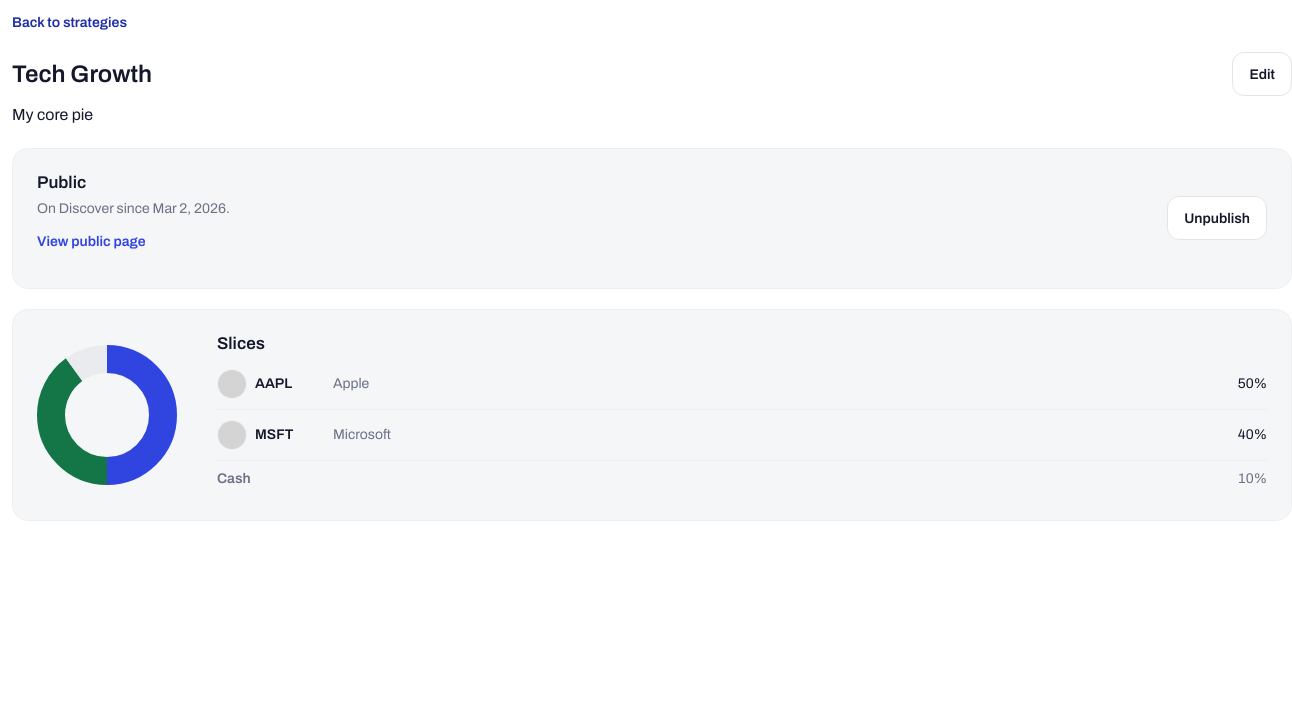
Test case: PieDetailComponent › unpublishes a public pie
Expected: the link "View public page" is shown, [37,234,146,250]
Click the button "Unpublish".
click(1217, 218)  # box [1167,196,1267,240]
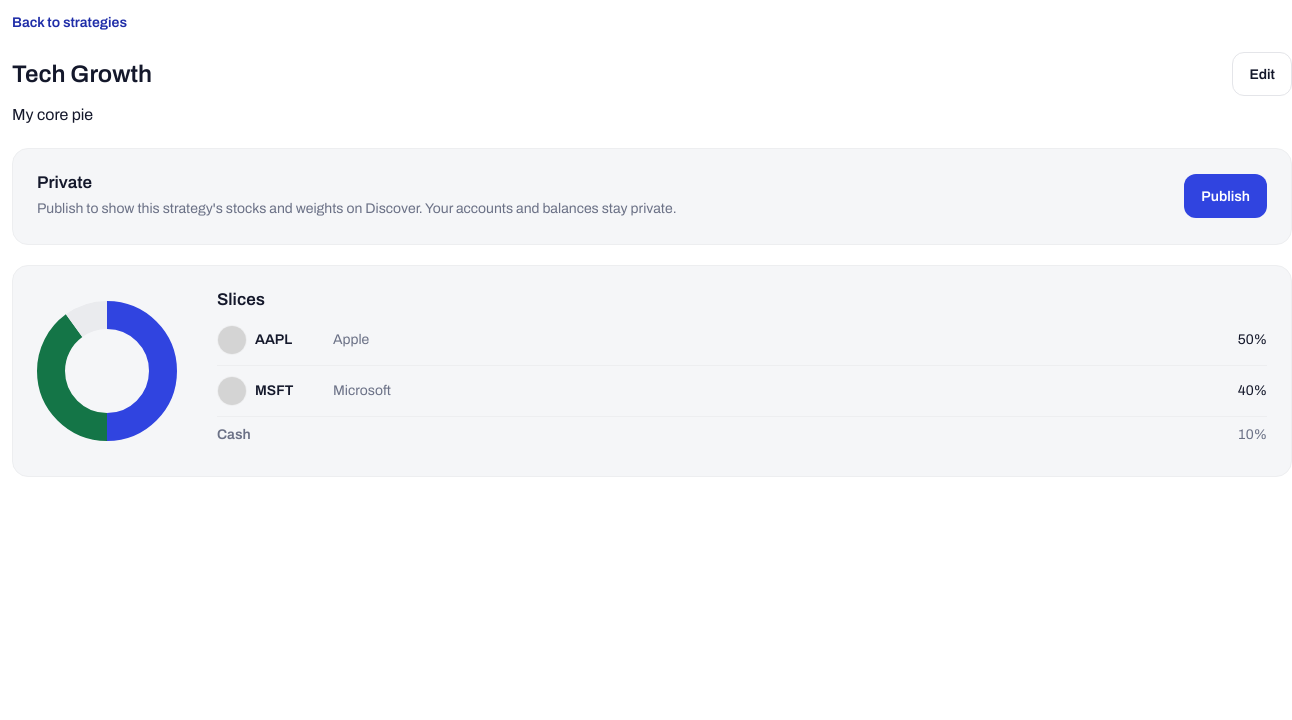
Expected: the heading "Private" is shown, [37,173,92,192]
Expected: the link "View public page" is gone
